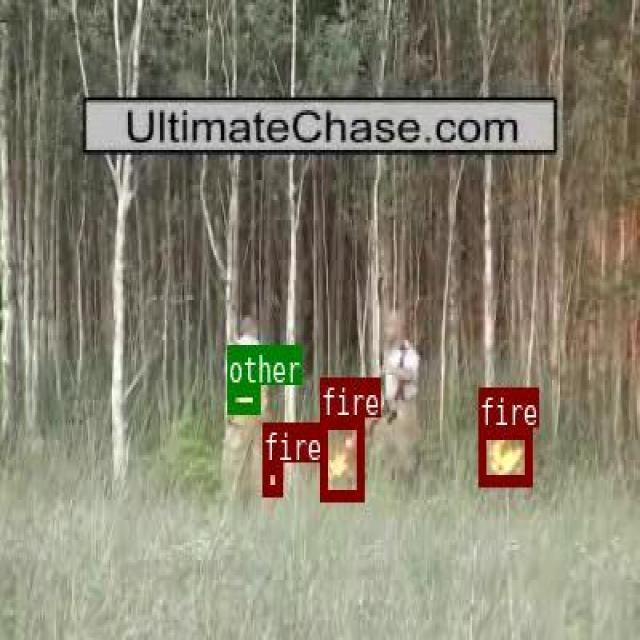fire: (319, 417, 363, 498), (478, 427, 530, 484), (262, 460, 281, 493)
